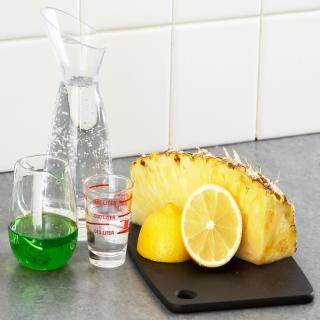Lemon: (180, 184, 242, 268), (136, 203, 191, 263)
Orange: (172, 184, 250, 276), (137, 205, 188, 262)
